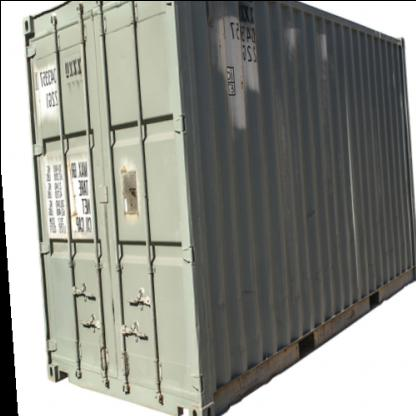Damage: (220, 338, 310, 390), (315, 291, 383, 342)
